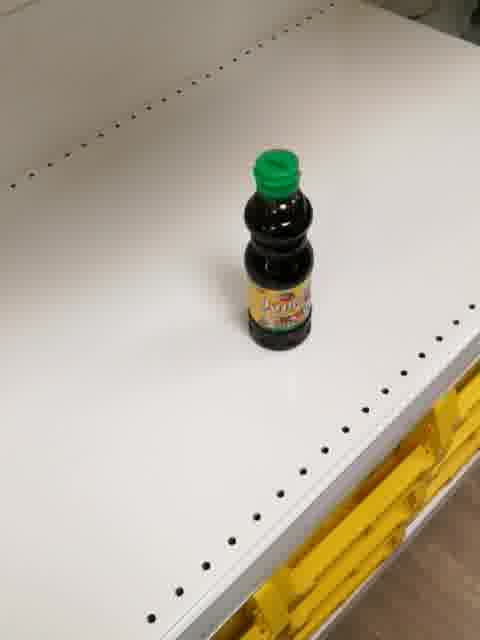cookingoil: (241, 146, 314, 353)
